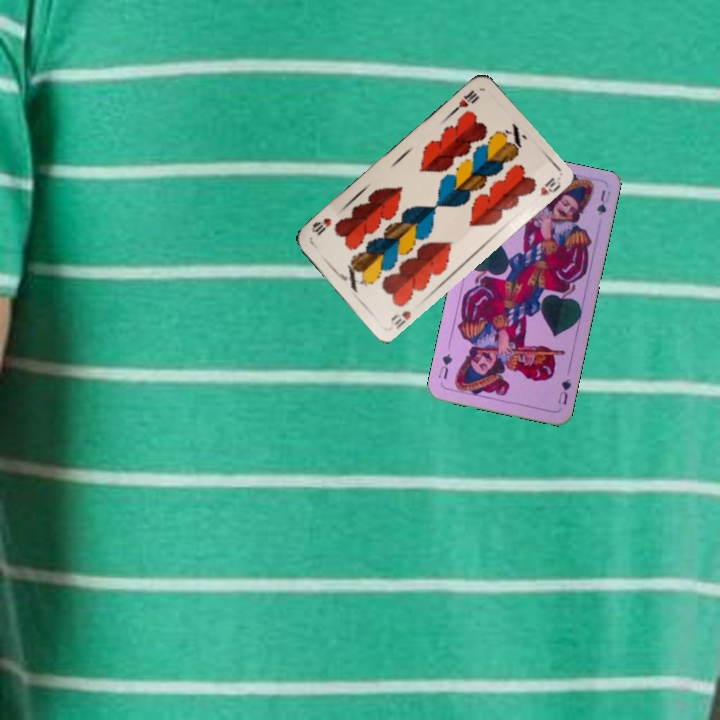GU: (554, 375, 574, 407)
H10: (448, 86, 481, 116), (386, 306, 414, 331)
